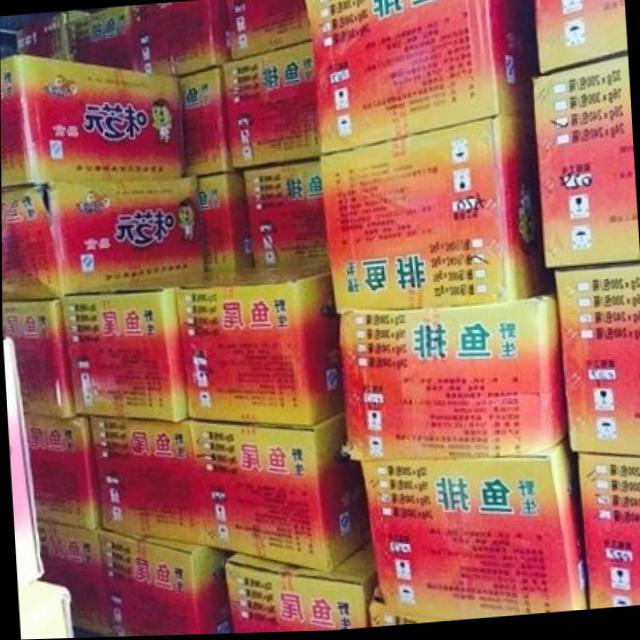box: (321, 118, 551, 315), (360, 440, 588, 624), (338, 295, 568, 463), (310, 0, 541, 157), (187, 418, 370, 575), (176, 267, 344, 427), (61, 270, 228, 423), (0, 53, 184, 191), (1, 176, 204, 301), (531, 62, 640, 273), (552, 268, 640, 460), (223, 541, 378, 635), (89, 417, 201, 546), (96, 532, 231, 638), (224, 42, 321, 173), (577, 457, 640, 613), (243, 159, 329, 270), (2, 297, 76, 420), (25, 414, 98, 532), (36, 522, 105, 638), (129, 0, 232, 77), (534, 0, 628, 78), (181, 69, 233, 178), (199, 173, 255, 270), (227, 0, 314, 60), (72, 7, 136, 70), (15, 12, 93, 60)
